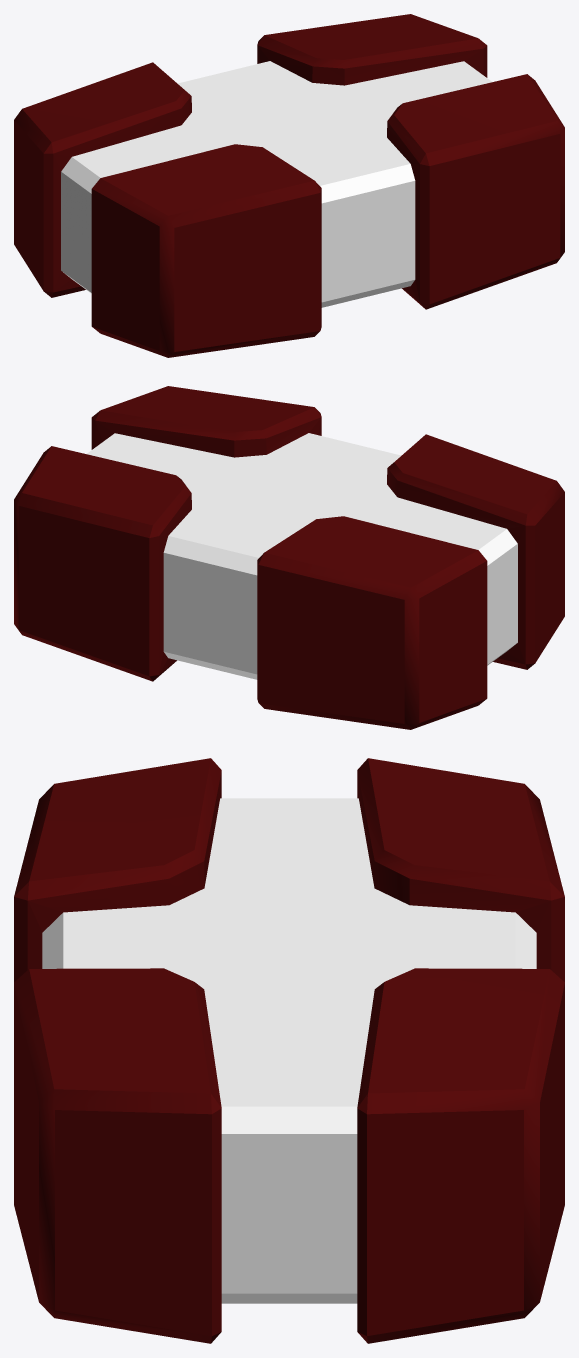
Rendered from medpack.fbx.
3 renders of one model, top to bottom at view 1: azimuth 30°, elevation 25°; view 2: azimuth 150°, elevation 25°; view 3: azimuth 270°, elevation 25°, orthographic. The views are drawn at different scales.
Visible parts, largest first — view 1: Cube; view 2: Cube; view 3: Cube.
Boxes of the visible parts, x1,y1,x2,y2 form: Cube: [14, 14, 564, 357]; Cube: [14, 386, 564, 729]; Cube: [14, 758, 564, 1343].
Bounding box in the file's own units: 29.8 × 10.77 × 19.91.
1 material, 1 textured.
